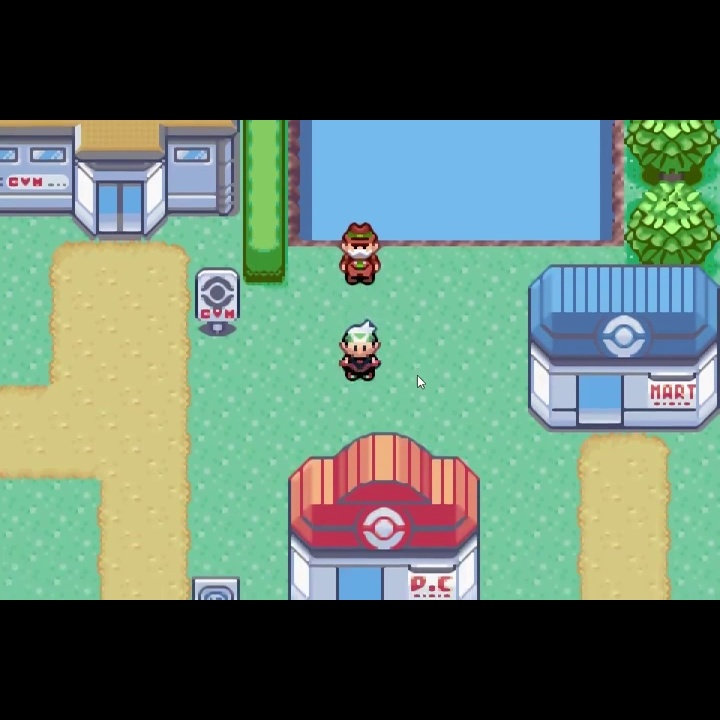gym: (1, 120, 241, 244)
npc: (337, 219, 382, 290), (338, 318, 384, 385)
pokecen: (285, 428, 483, 601)
pokemart: (522, 261, 720, 435)
wall: (624, 183, 720, 265), (624, 120, 720, 181)
